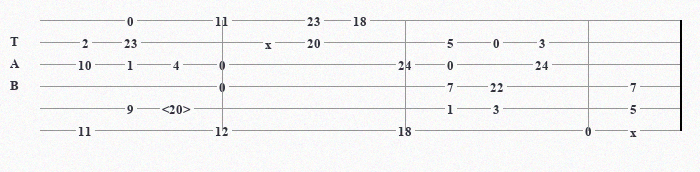0: (127, 14, 138, 27), (219, 80, 230, 93), (219, 58, 230, 71), (447, 58, 458, 71), (493, 36, 504, 49), (585, 124, 596, 137)
1: (127, 58, 138, 71), (447, 102, 458, 115)
10: (78, 58, 96, 71)
11: (78, 124, 96, 137), (215, 14, 233, 27)
12: (215, 124, 233, 137)
18: (353, 14, 371, 27), (398, 124, 416, 137)
2: (82, 36, 93, 49)
20: (307, 36, 325, 49)
22: (490, 80, 508, 93)
23: (124, 36, 142, 49), (307, 14, 325, 27)
24: (398, 58, 416, 71), (535, 58, 553, 71)
3: (493, 102, 504, 115), (539, 36, 550, 49)
4: (173, 58, 184, 71)
5: (447, 36, 458, 49), (630, 102, 641, 115)
7: (447, 80, 458, 93), (630, 80, 641, 93)
9: (127, 102, 138, 115)
harmonic: (162, 102, 195, 115)
x: (265, 37, 276, 47), (630, 125, 641, 135)
